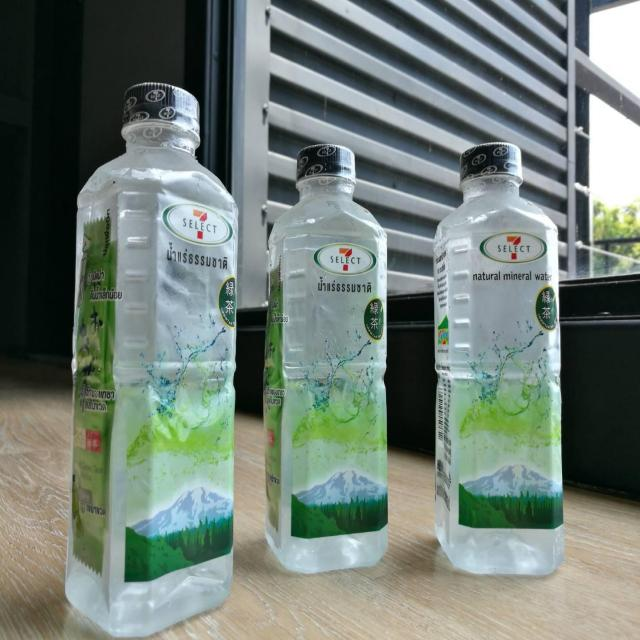bottle: (428, 135, 571, 598), (115, 82, 231, 598), (265, 137, 388, 598)
